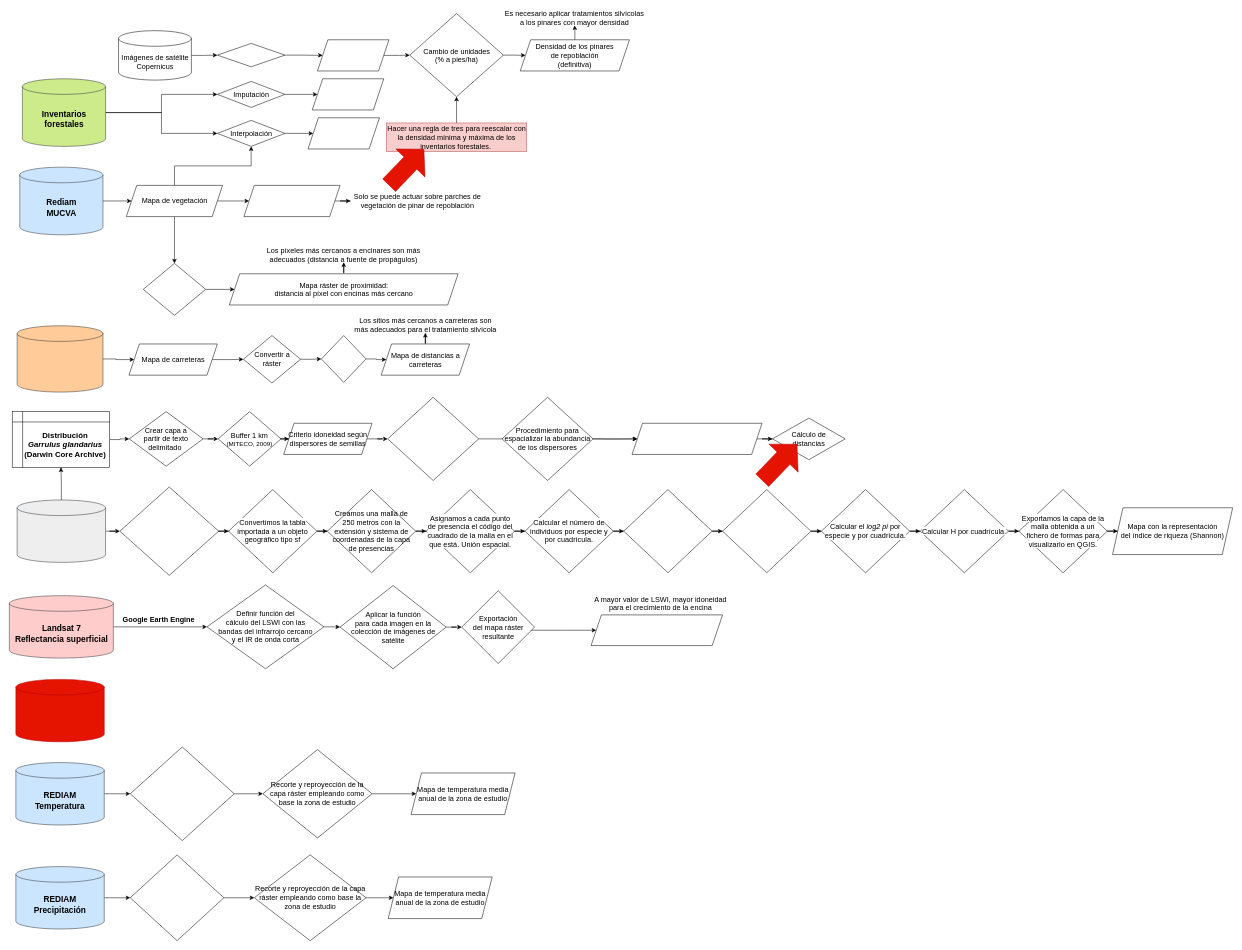
The diagram is 1242 pixels wide and 950 high, and some of its shapes have lost their labels. The shapes that lost their labels are listed below. From the top down, each one's box as (x1, y1, x2, y2) in pixels, then its label:
(217, 43, 285, 67): Teledetección
(317, 39, 389, 71): Densidad pinares de repoblación (1)
(312, 78, 384, 110): Densidad pinares de repoblación (2)
(307, 117, 379, 149): Densidad pinares de repoblación (3)
(243, 185, 340, 217): Presencia de pinar de repoblación
(143, 263, 206, 315): Análisis de proximidad
(17, 325, 103, 392): CNIG Redes de transporte
(321, 335, 366, 382): Calcular distancias
(387, 397, 479, 480): Procedimiento para espacializar la distribución de los dispersores
(632, 423, 762, 454): Mapa de abundancia de dispersores (arrendajos, roedores)
(17, 499, 106, 562): GBIF
(119, 486, 219, 575): Importamos el archivo csv de GBIF con sus atributos geográficos
(623, 489, 712, 573): Calcular el número total de individuos por cuadrícula.
(722, 489, 811, 573): Calcular la proporción de individuos ( pi ) por especie y por cuadrícula.
(591, 614, 723, 646): Mapa de humedad del suelo (LSWI)
(15, 679, 104, 742): Atlas de fauna
(130, 746, 234, 841): Descarga de la cartografía de temperatura media anual de Andalucía
(130, 854, 224, 941): Descarga de la cartografía de precipitación media anual de Andalucía
